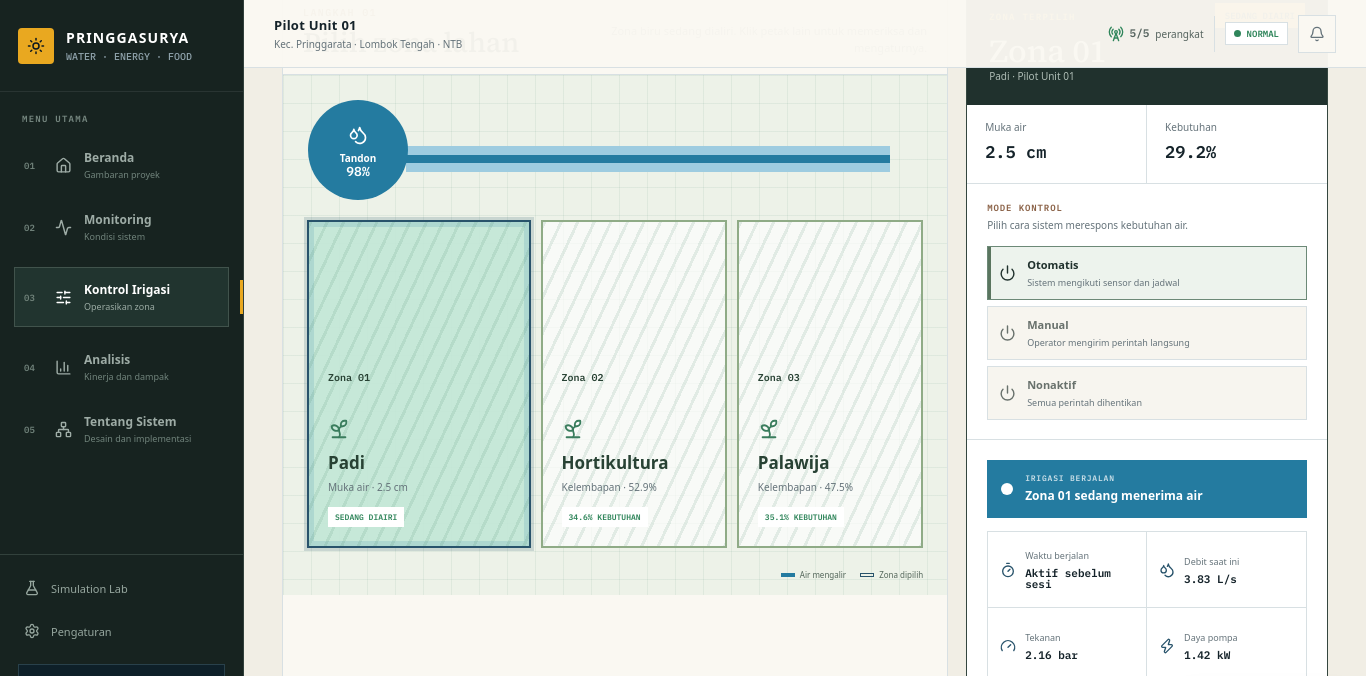
Test: PRINGGASURYA application shell › keeps the primary navigation simple and completes an irrigation command
(page scrolled)
Click the button "Zona 02 Hortikultura Kelembapan · 52.9% 34.6% KEBUTUHAN".
click(634, 384)  # box [540,220,727,548]
(page scrolled)
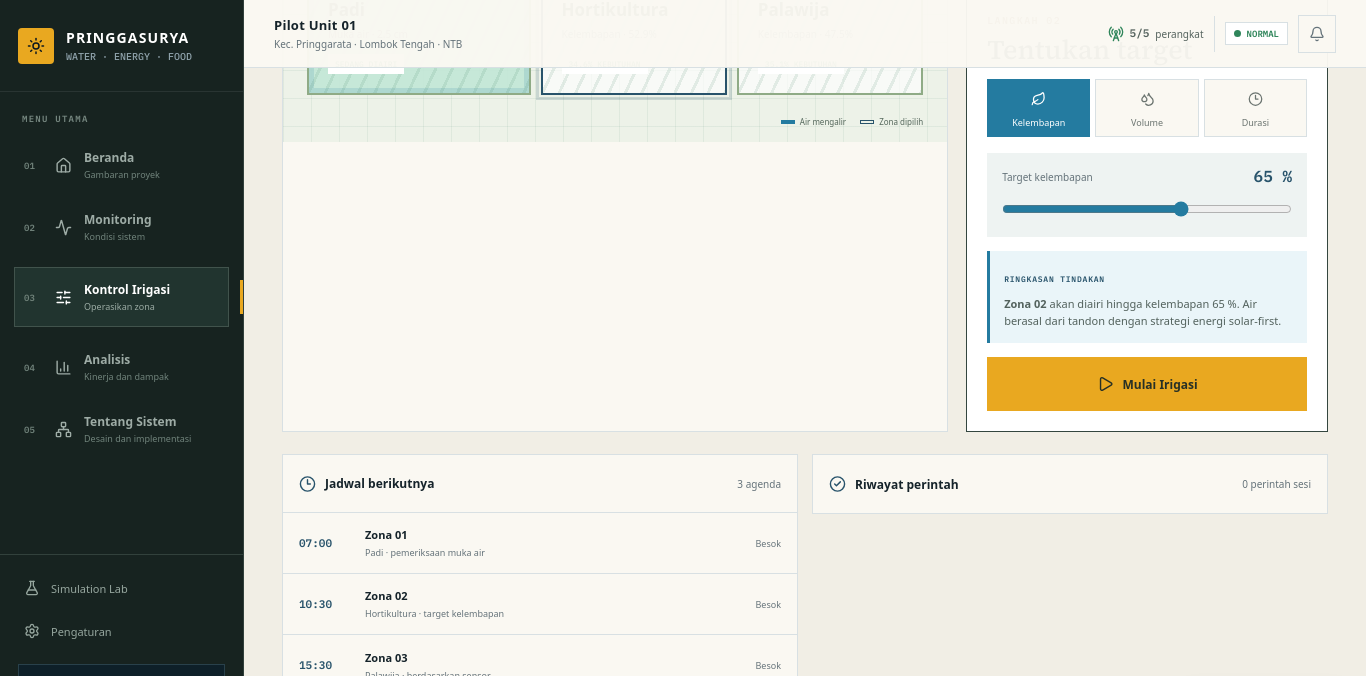
Click the button "Mulai Irigasi".
click(1147, 384)  # box [987,357,1307,411]
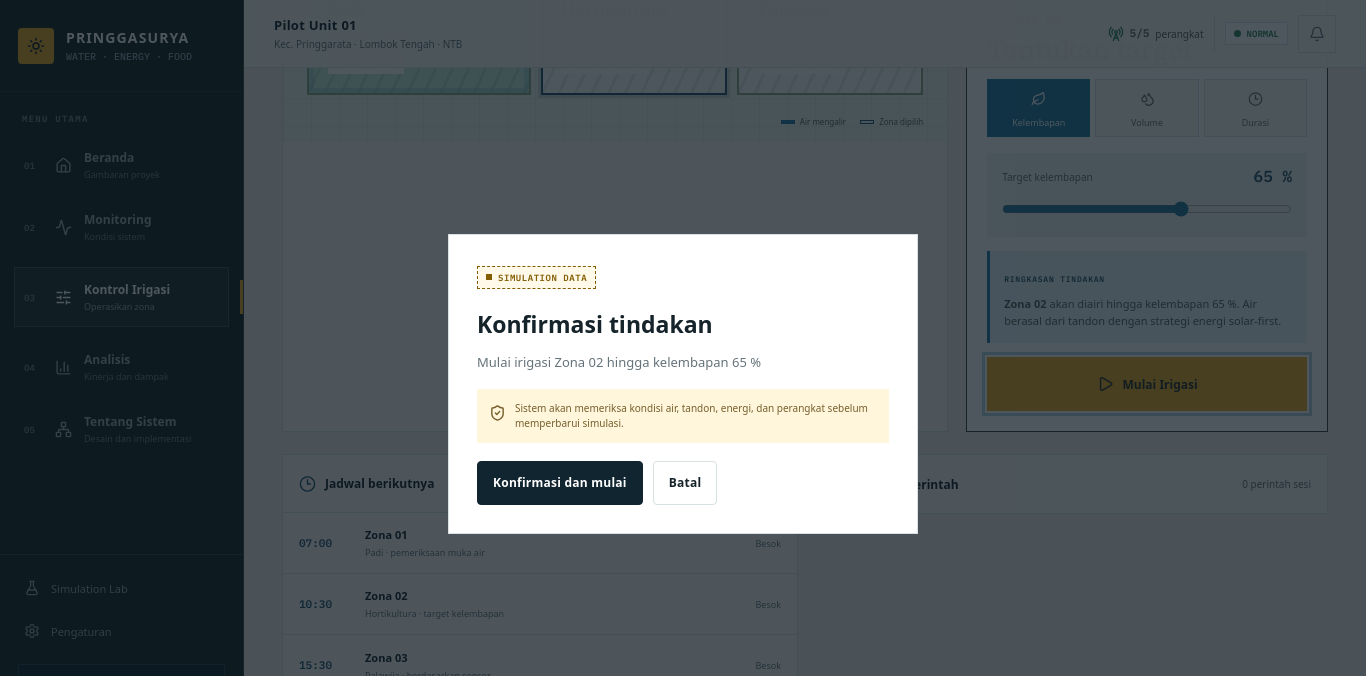
Check: the dialog "Konfirmasi tindakan" is shown, box [448,234,918,534]
Click the button "Konfirmasi dan mulai".
click(560, 483)  # box [477,461,643,505]
(page scrolled)
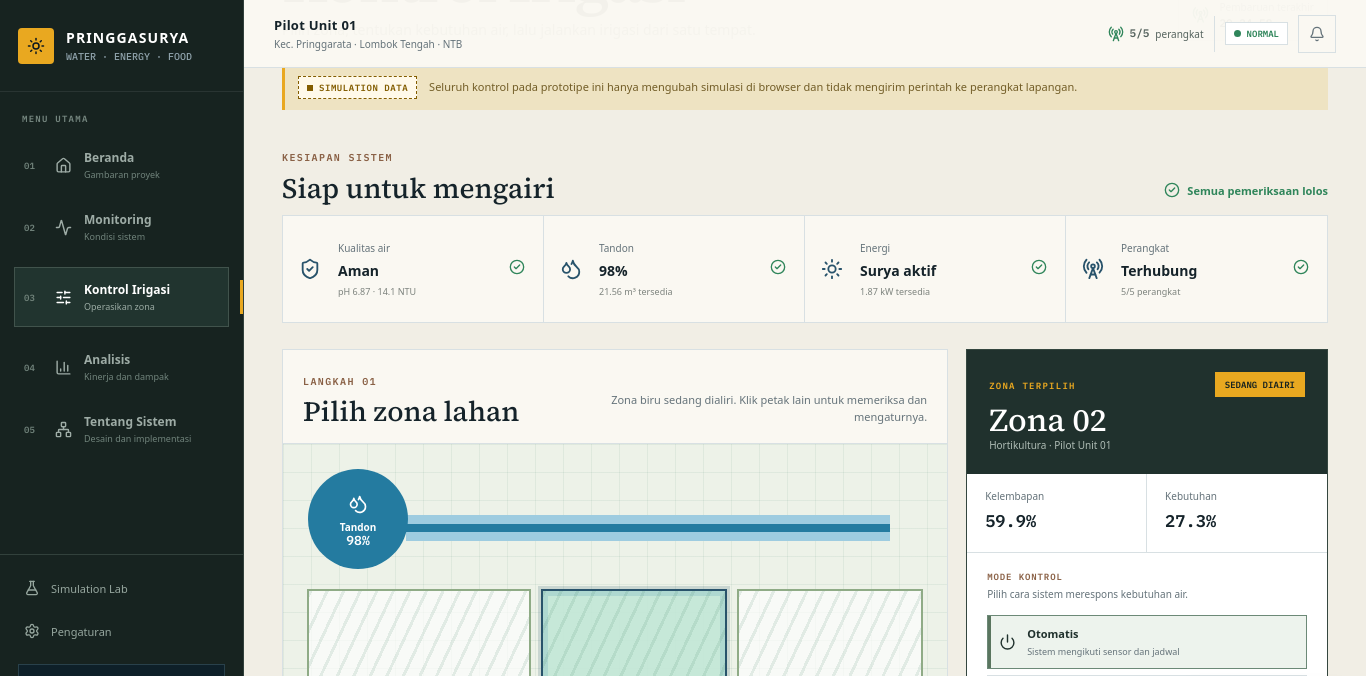
Check: the text "Sedang diairi" is shown, box [1215,372,1305,397]
